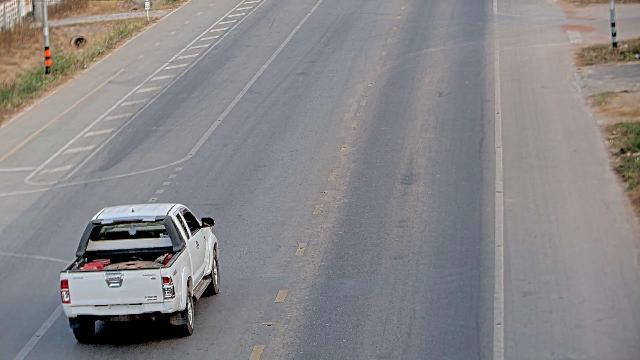pickup-truck: (59, 202, 221, 344)
